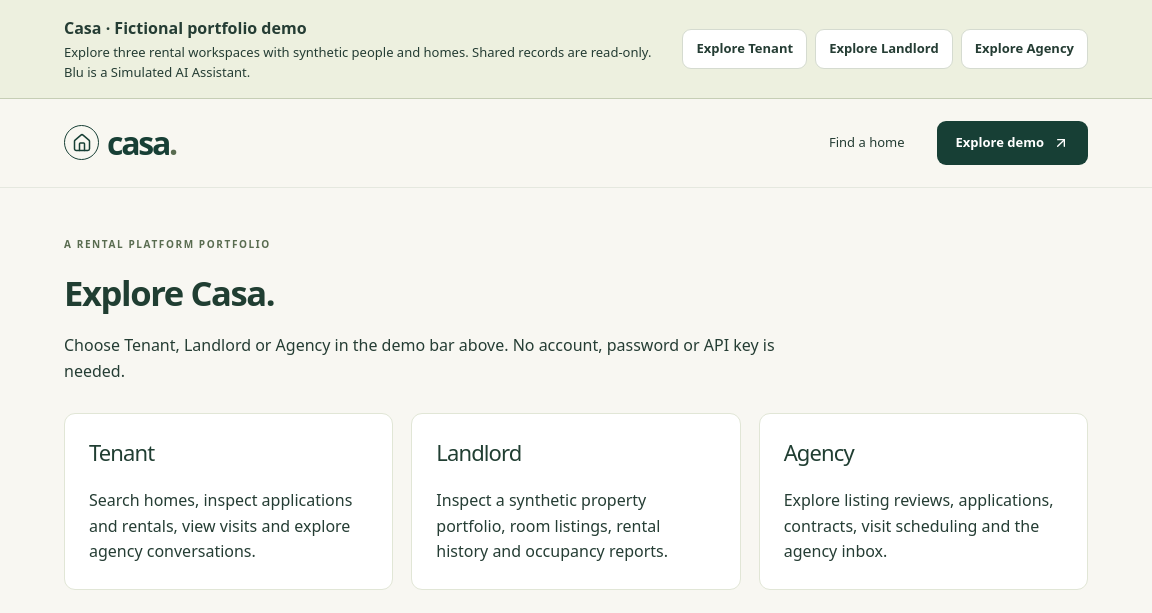
Test: offers password-free demo roles and switches workspaces with per-tab sessions
Check: the heading "Explore Casa." is shown, box left=64, top=269, right=274, bottom=316
Click the button "Explore Tenant": (745, 49) left=682, top=29, right=807, bottom=69
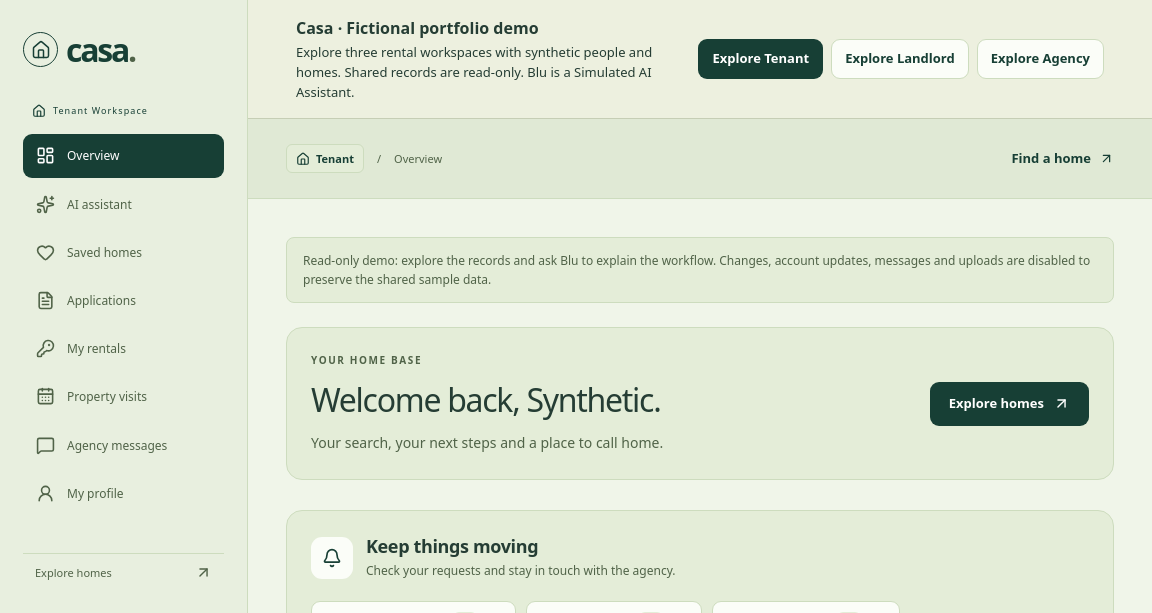
Check: the heading "Welcome back, Synthetic." is shown, box left=311, top=381, right=663, bottom=420
Check: the text "Tenant workspace" is shown, box left=32, top=104, right=148, bottom=118
Click the button "Explore Agency": (1040, 59) left=977, top=39, right=1104, bottom=79
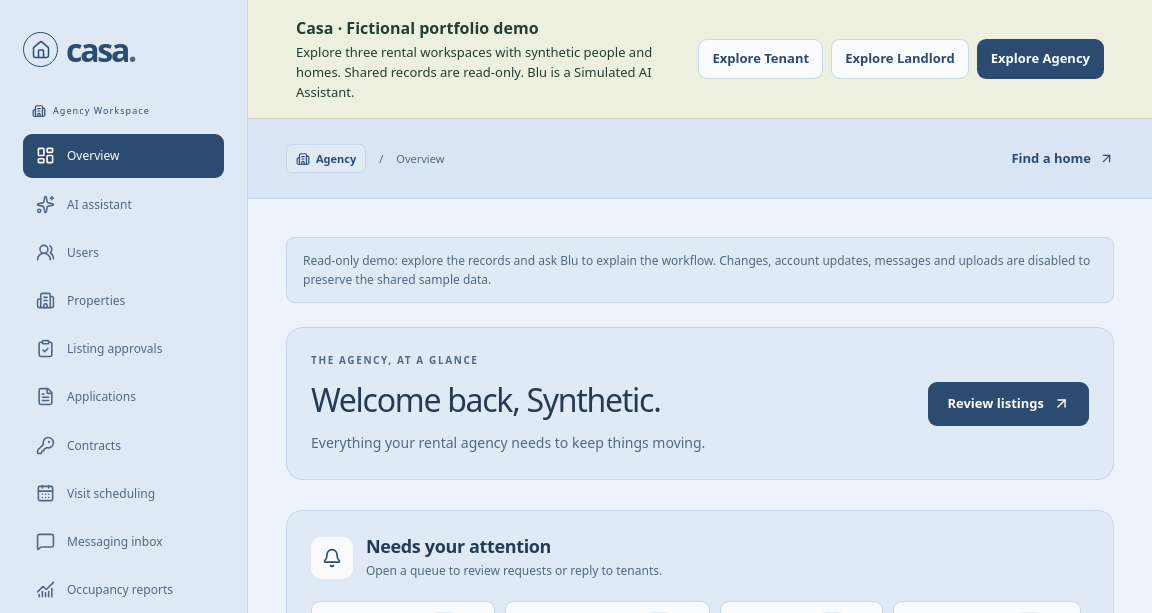
Check: the text "Agency workspace" is shown, box left=32, top=104, right=150, bottom=118
Check: the text "Tenant workspace" is gone
